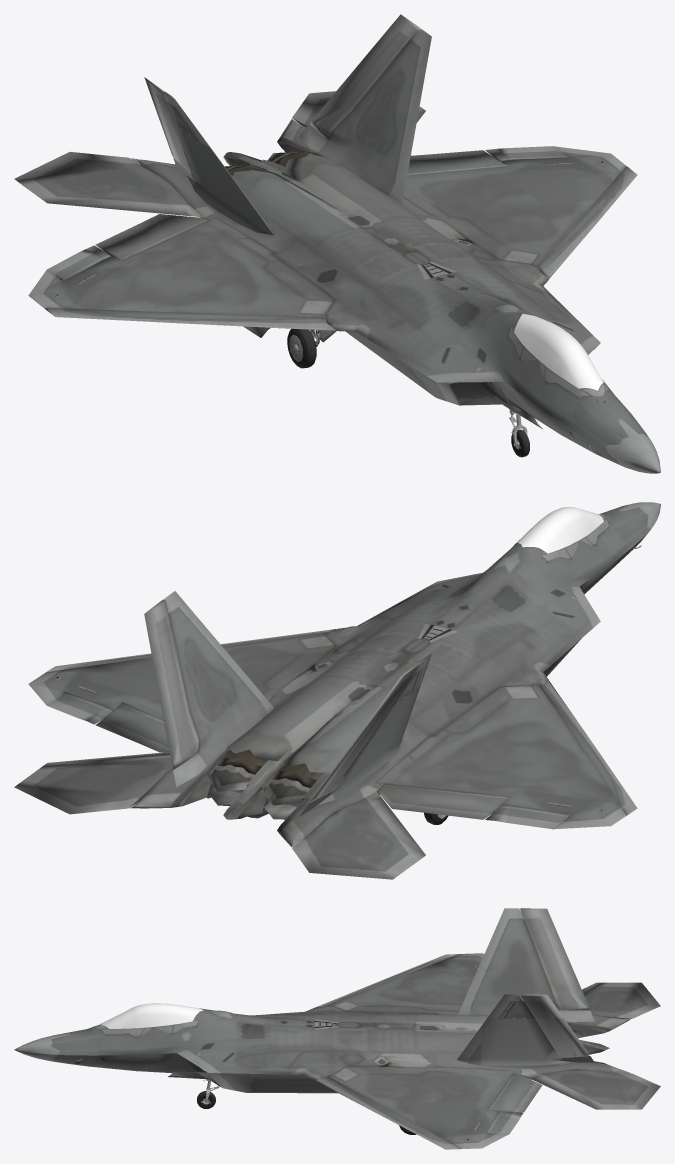
The model's file is jet_f22.glb.
3 views of the same model, one above another, from view 1: azimuth 30°, elevation 25°; view 2: azimuth 150°, elevation 25°; view 3: azimuth 270°, elevation 25° (orthographic). The views are drawn at different scales.
Parts seen in each view (by area): view 1: BODY; view 2: BODY; view 3: BODY.
Part boxes in pixels (box(x1,y1,x2,y2)): BODY: box(14, 14, 660, 473); BODY: box(14, 502, 660, 879); BODY: box(14, 908, 660, 1149).
Size of the model in its own units: 13.56 by 5.19 by 19.
2 materials, 1 textured.
